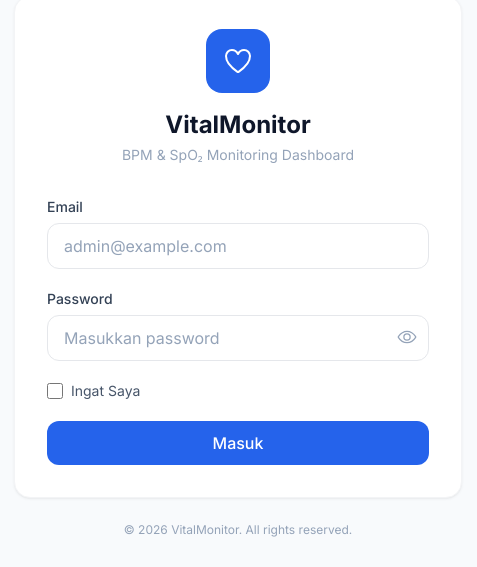
Scenario: Login Page › shows validation error for short password
Type "admin@test.com" into the field with placeholder "admin@example.com". click: [238, 246]
box: [47,223,429,269]
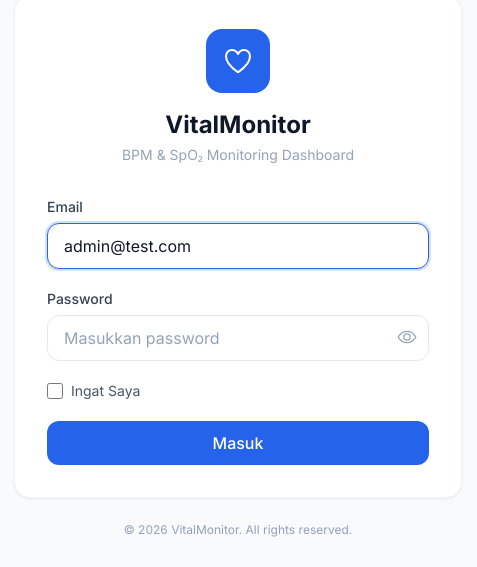
Type "123" into the password field with placeholder "Masukkan password". click: [238, 338]
box: [47,315,429,361]
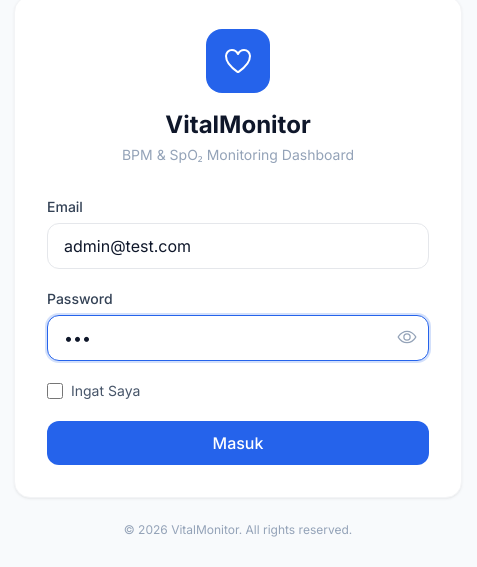
Click the button "Masuk". click: [238, 443]
box: [47,421,429,465]
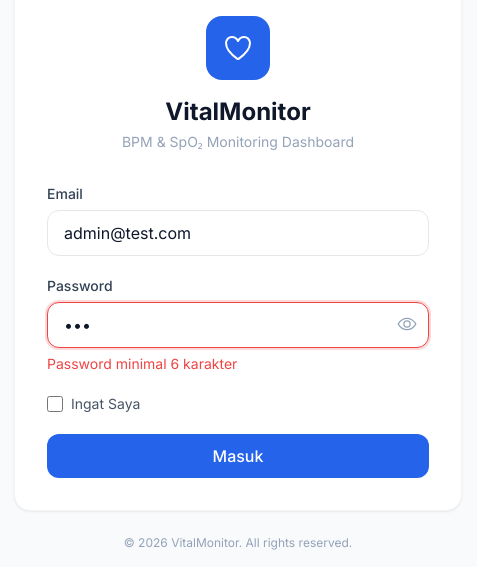
Now the text "Password minimal 6 karakter" is shown, box [47,355,237,372]
